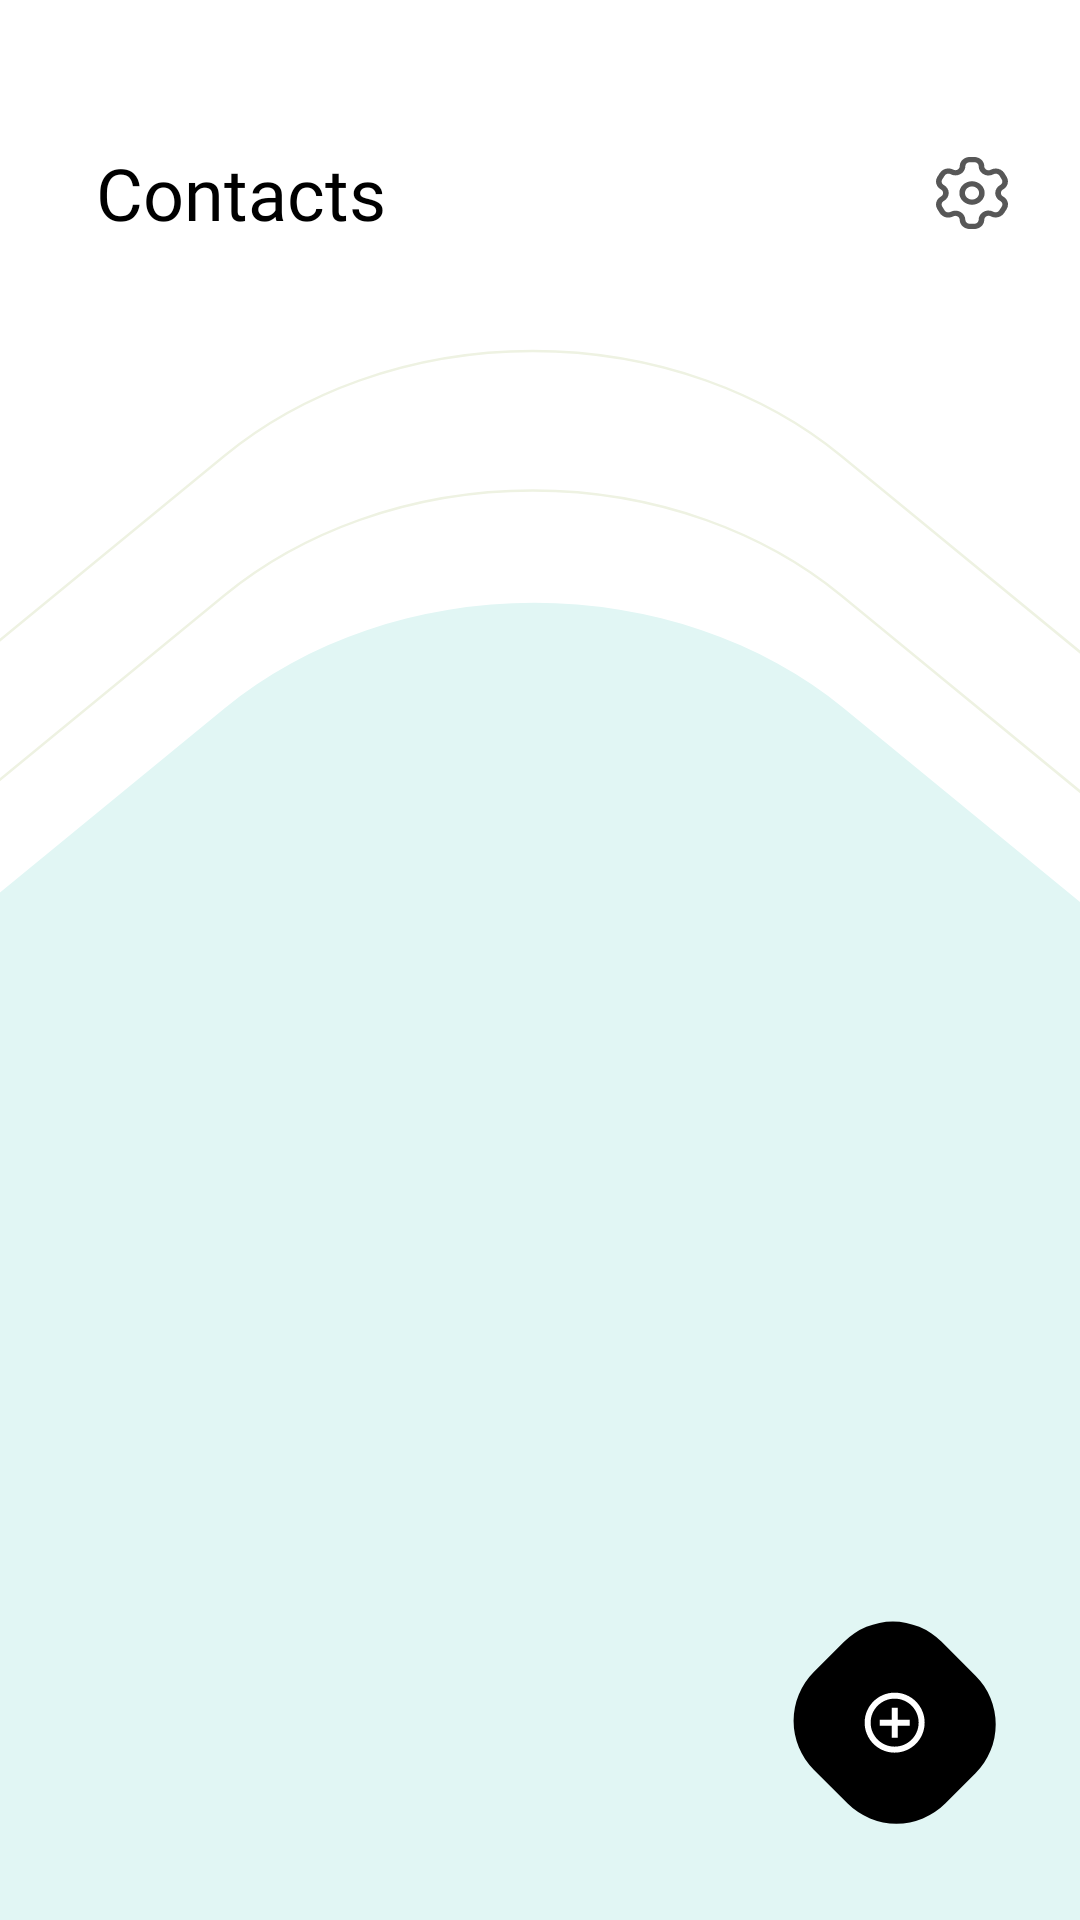

Screen size 1080 × 1920. Icon name, then its box in pixels as (x1, y1, x2, y2):
add: (793, 1621, 996, 1824)
setting: (936, 157, 1008, 229)
